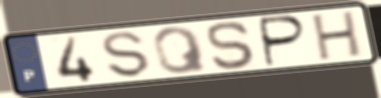4: (55, 34, 98, 84)
H: (310, 9, 364, 63)
P: (258, 14, 309, 69)
Q: (150, 24, 211, 76)
S: (205, 19, 260, 71), (100, 30, 154, 80)
